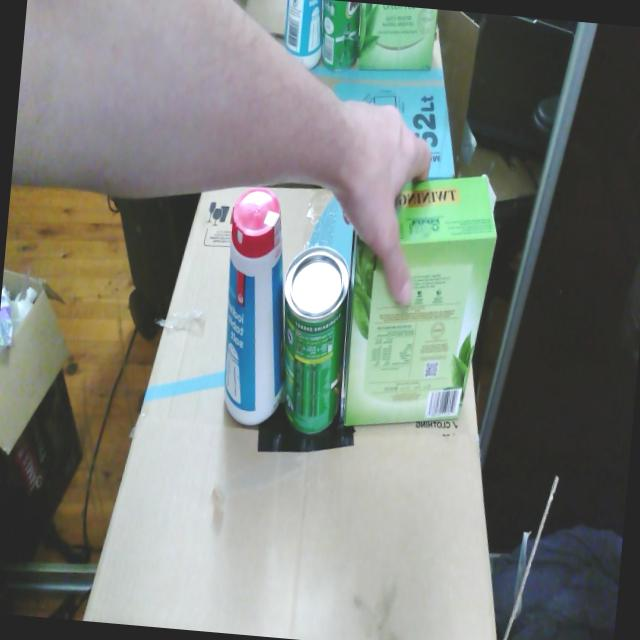nestle_milo_tin: (283, 245, 349, 434)
twinings_greentea_box: (342, 176, 496, 425)
woolworths_salt_bottle: (223, 187, 283, 425)
